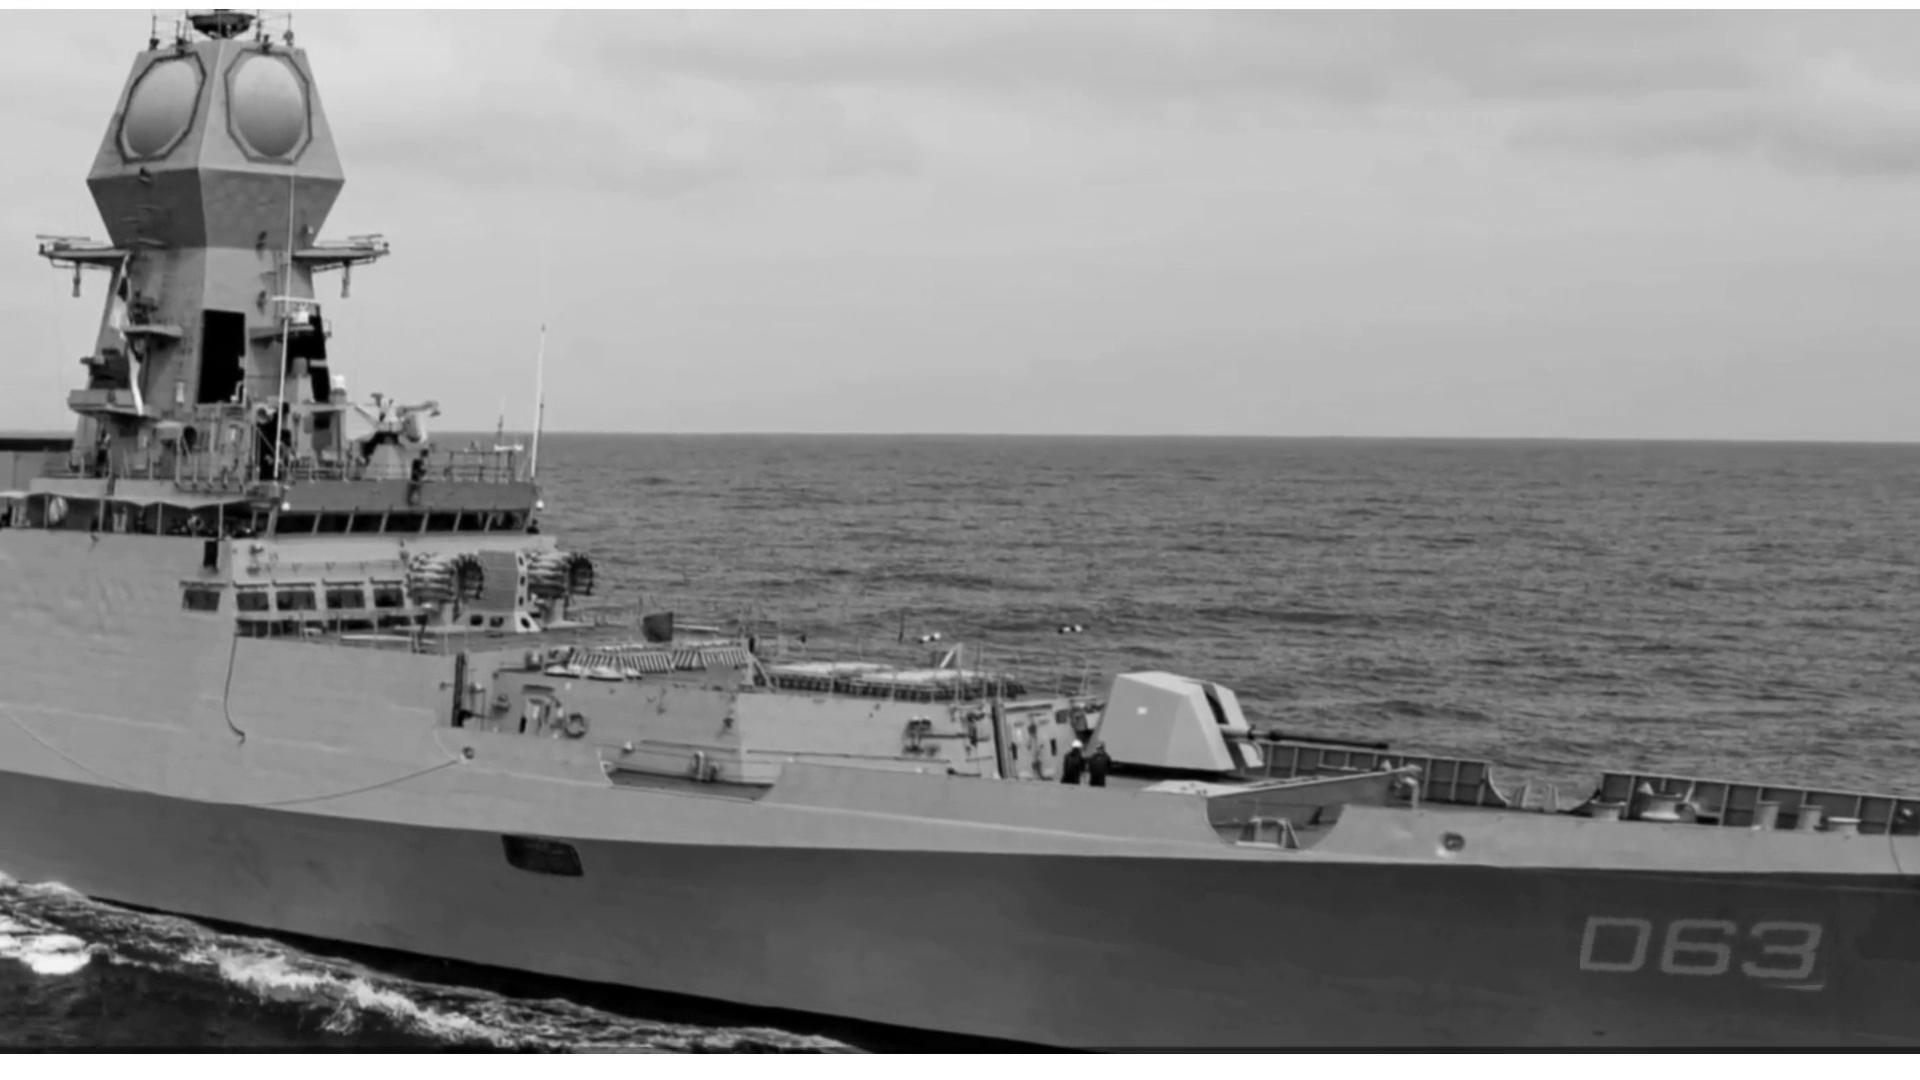OCR: (1580, 908, 1842, 998)
